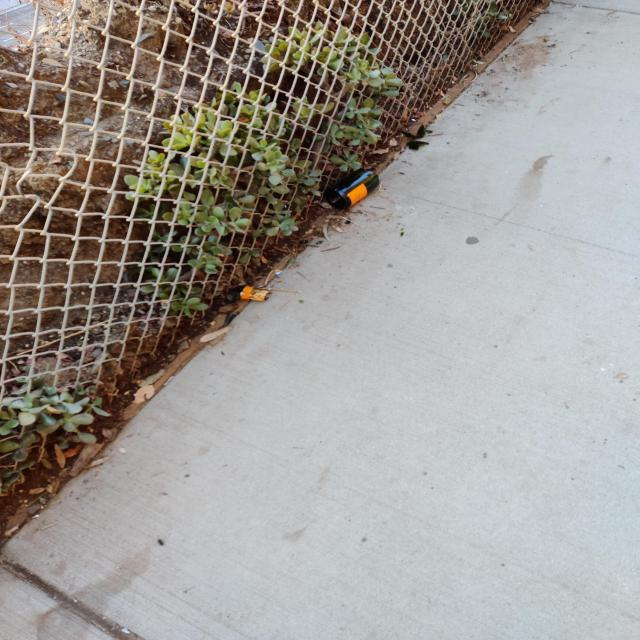litter: (326, 169, 380, 209), (240, 286, 272, 301), (401, 124, 425, 138), (407, 141, 428, 150)
